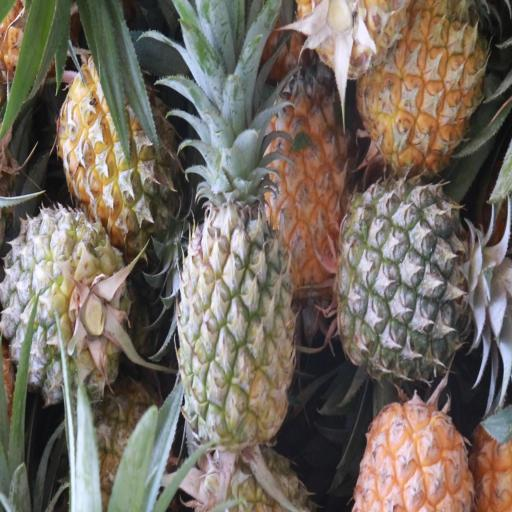------------------------------: (1, 212, 124, 403), (59, 42, 176, 241)
Pineapple - v8 v1: (356, 0, 482, 170), (266, 70, 350, 286), (352, 394, 473, 512)
